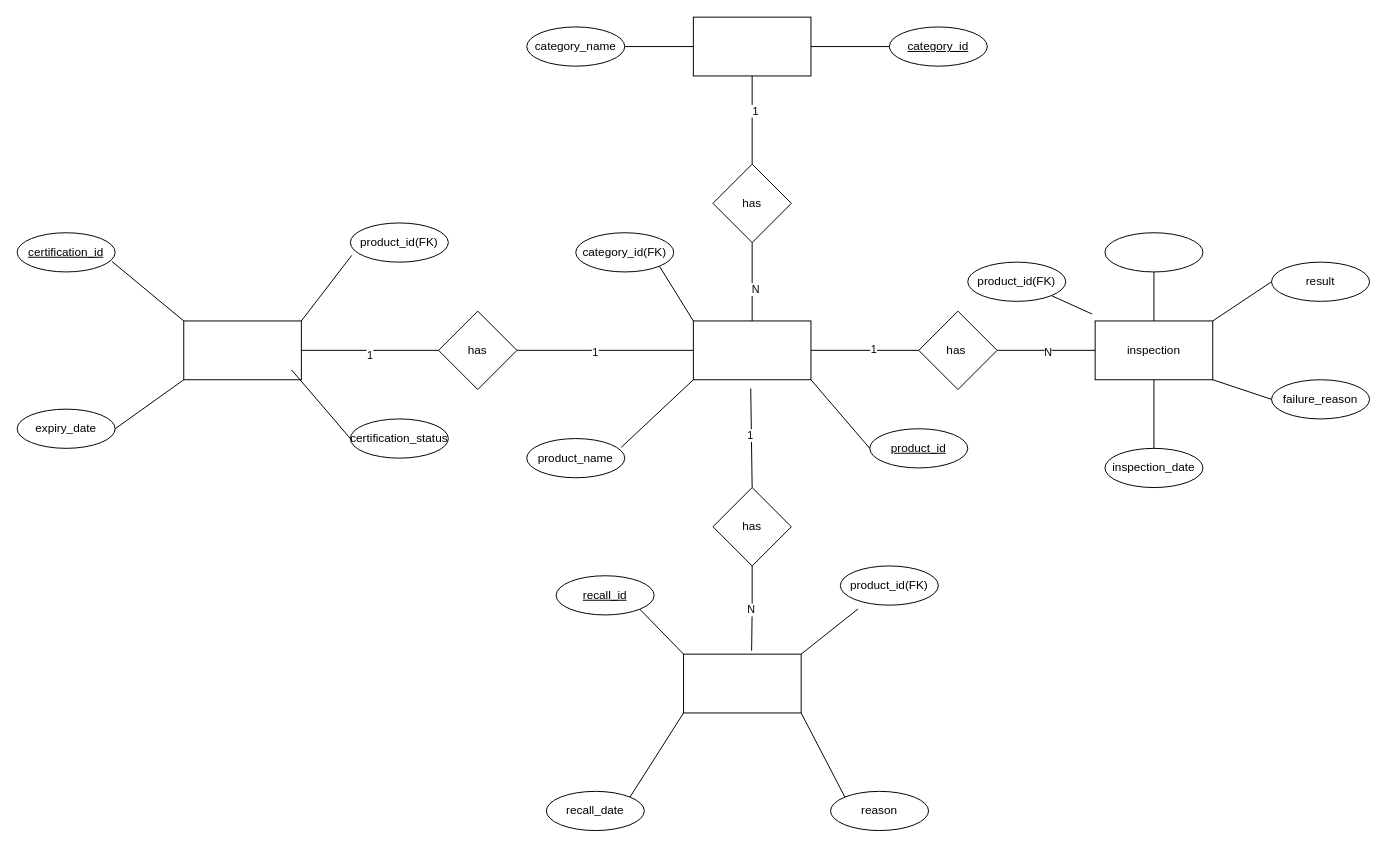
Some shapes in this 1387 by 848 pixel diagram are drawn without their labels. Here are the shapes that lost their labels. From the top down, the box of each, then its label:
(692, 16, 811, 76): category
(1104, 232, 1203, 272): inspection_id
(183, 320, 301, 380): certification
(692, 320, 811, 380): products
(683, 653, 801, 713): recalls
